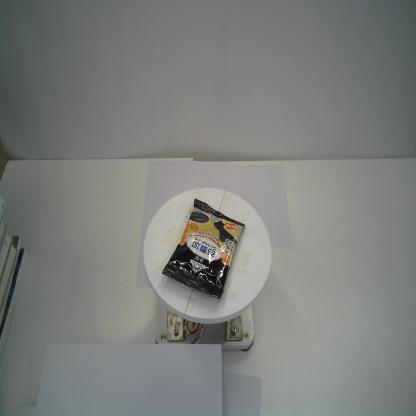Instant Drink: (162, 197, 245, 300)
